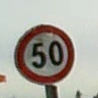limite 50: (14, 22, 75, 84)
